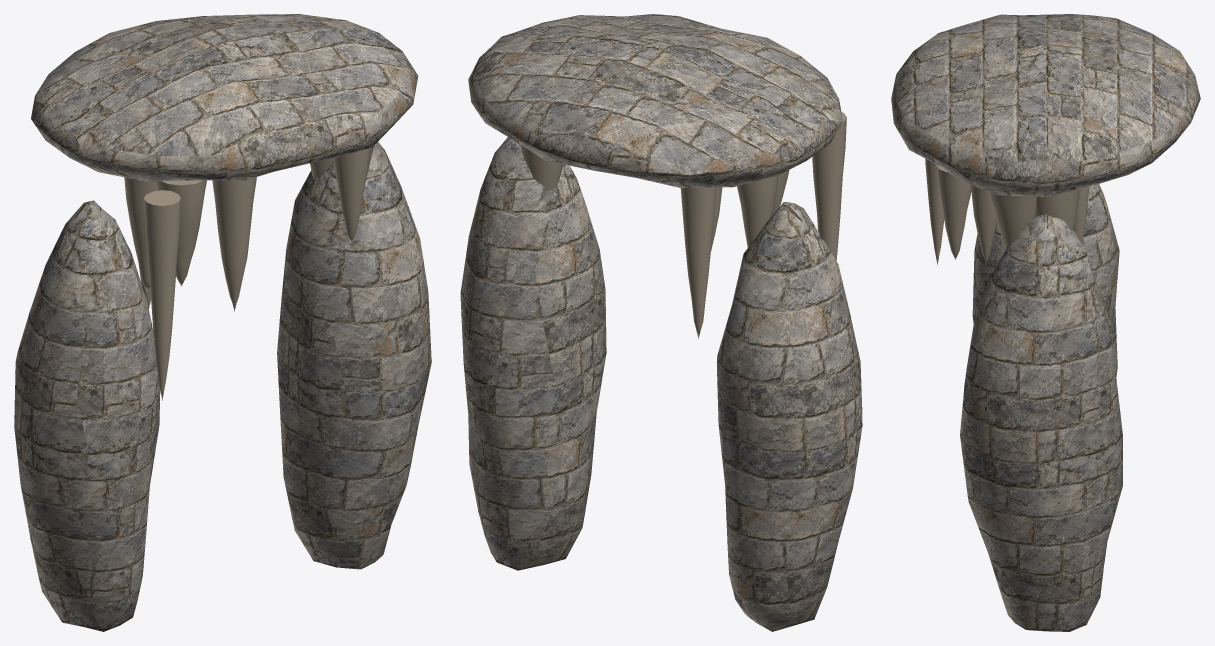
File: stalactites-v01.glb
The picture shows the model from 3 angles, left to right: view 1: azimuth 30°, elevation 25°; view 2: azimuth 150°, elevation 25°; view 3: azimuth 270°, elevation 25°; orthographic projection. The views are drawn at different scales.
Parts seen in each view (by area): view 1: stalactites; view 2: stalactites; view 3: stalactites.
Boxes of the visible parts, x1=… form: stalactites: x1=14, y1=14, x2=431, y2=631; stalactites: x1=460, y1=14, x2=862, y2=631; stalactites: x1=891, y1=14, x2=1200, y2=631.
Size of the model in its own units: 2.74 by 3.61 by 1.98.
1 material, 1 textured.
